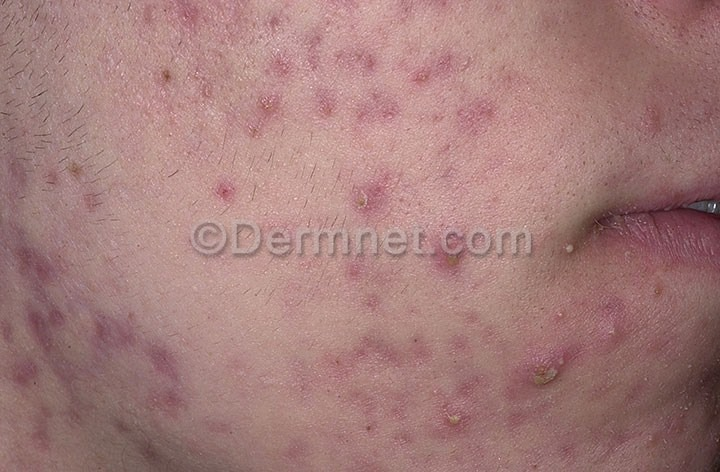Acne: (8, 6, 676, 446)
